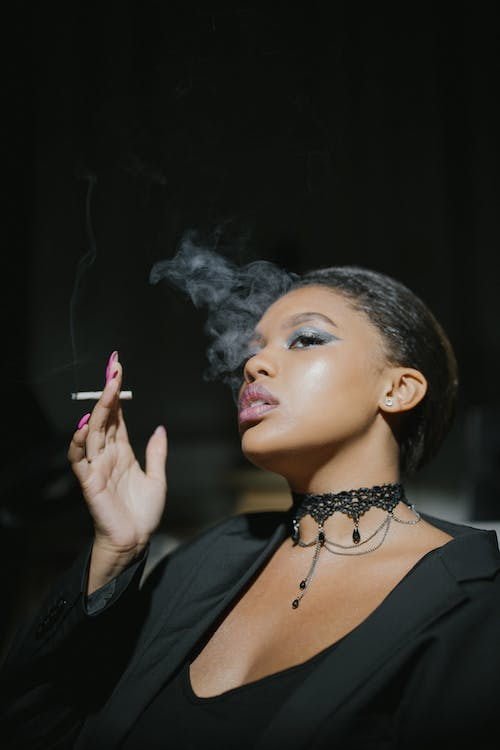cigarette: (68, 386, 134, 403)
